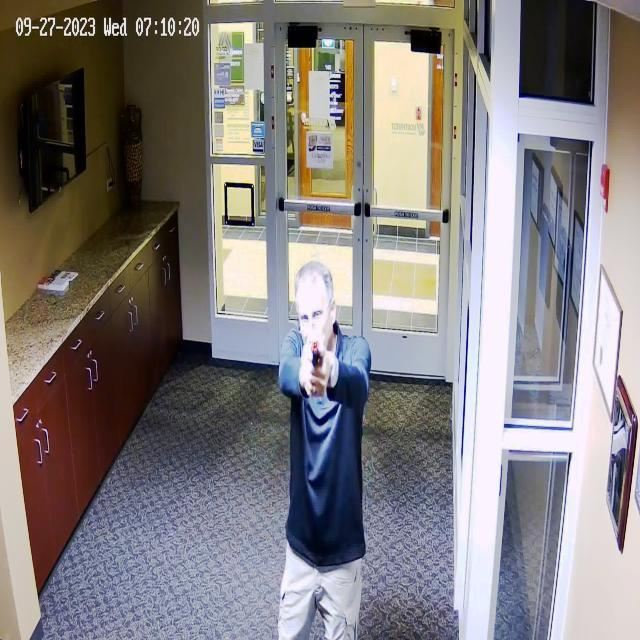Gun: (297, 337, 345, 401)
